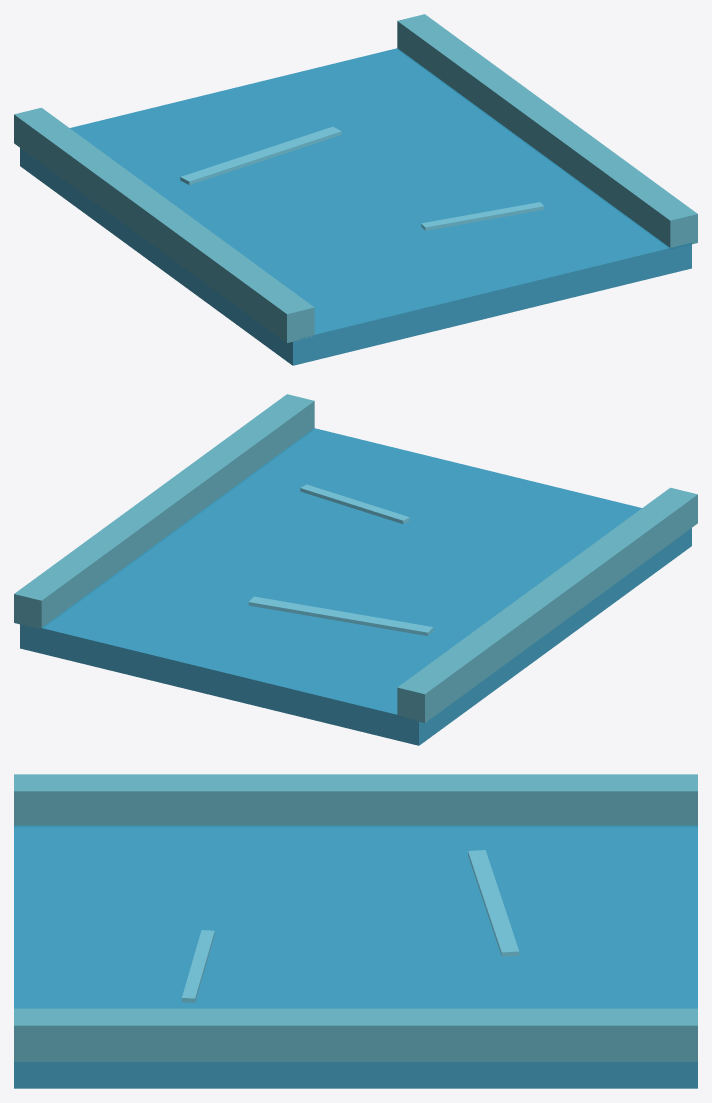
Rendered from track_water_slide_1lane.glb.
3 views of the same model, one above another, from view 1: azimuth 30°, elevation 25°; view 2: azimuth 150°, elevation 25°; view 3: azimuth 270°, elevation 25° (orthographic). The views are drawn at different scales.
Visible parts, largest first — view 1: track_water_slide_1lane; view 2: track_water_slide_1lane; view 3: track_water_slide_1lane.
Boxes of the visible parts, bbox=[...] form: track_water_slide_1lane: bbox=[14, 14, 697, 365]; track_water_slide_1lane: bbox=[14, 394, 697, 745]; track_water_slide_1lane: bbox=[14, 774, 697, 1088].
Bounding box in the file's own units: 2.68 × 0.33 × 3.08.
